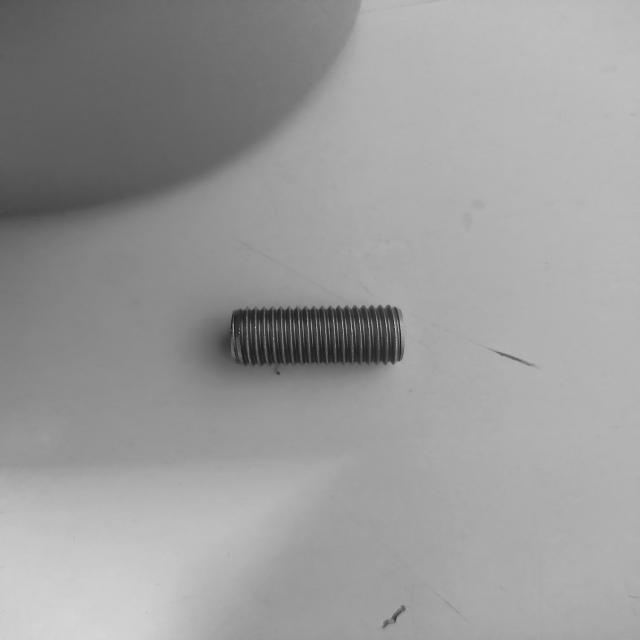Normal: (231, 305, 404, 367)
